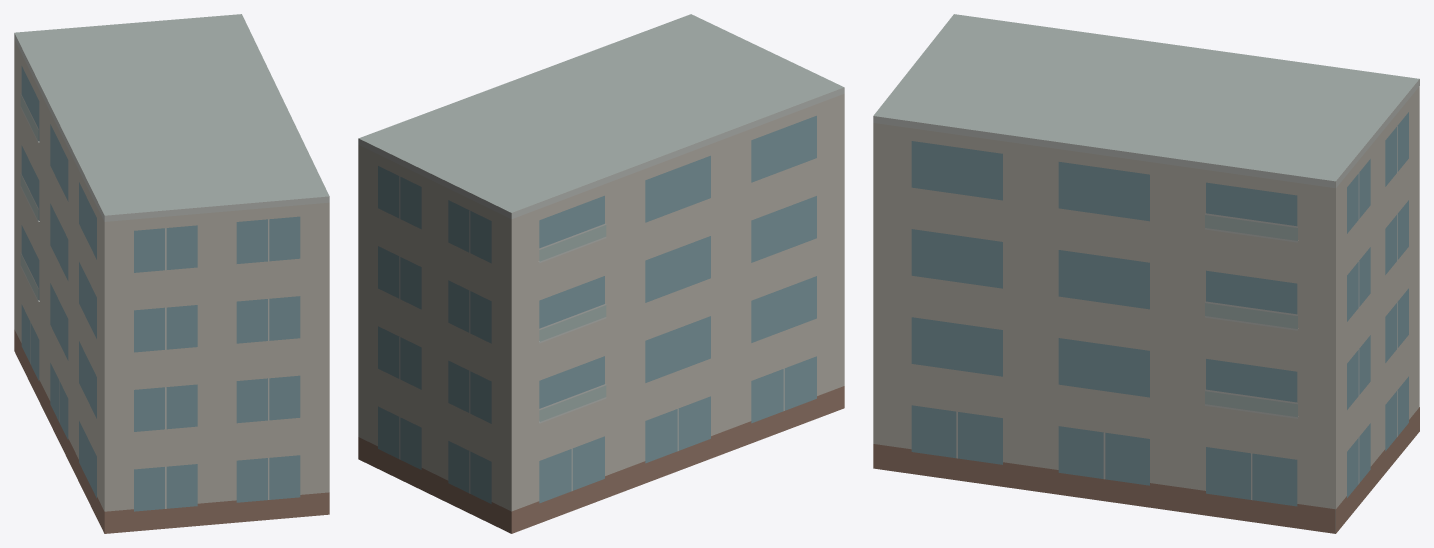
File: survey-upis-32851041.glb
3 renders of one model, left to right at view 1: azimuth 30°, elevation 25°; view 2: azimuth 150°, elevation 25°; view 3: azimuth 270°, elevation 25°, orthographic. The views are drawn at different scales.
Visible parts, largest first — view 1: survey-upis-32851041.tmp; view 2: survey-upis-32851041.tmp; view 3: survey-upis-32851041.tmp.
Boxes of the visible parts, x1,y1,x2,y2 form: survey-upis-32851041.tmp: (14,14,329,533); survey-upis-32851041.tmp: (358,14,844,533); survey-upis-32851041.tmp: (873,14,1419,533).
Bounding box in the file's own units: 12.64 × 12.4 × 17.44.
